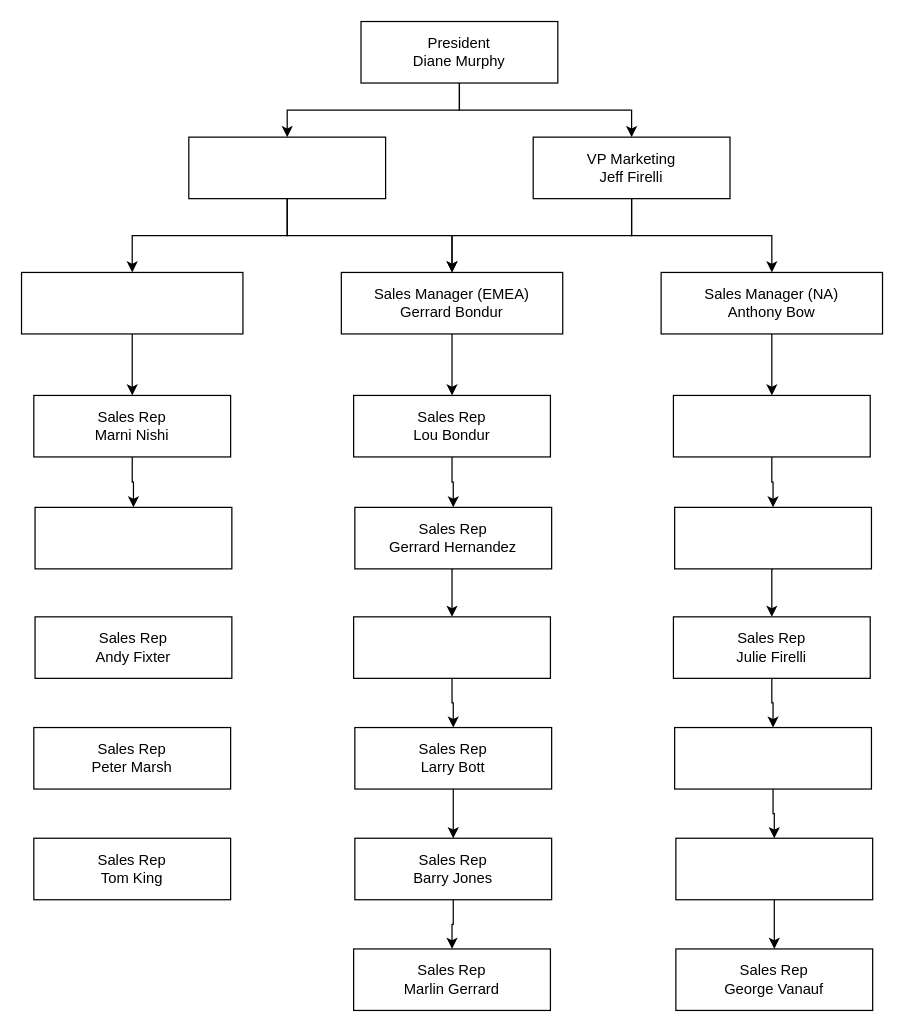
The diagram is 904 pixels wide and 1032 high, and some of its shapes have lost their labels. The shapes that lost their labels are listed below. From the top down, each one's box as (x1, y1, x2, y2) in pixels, then its label:
(188, 136, 386, 199): VP Sales Marty Patterson
(20, 271, 243, 334): Sales Manager (APAC) William Patterson
(672, 394, 870, 457): Sales Rep Leslie Jennings
(34, 506, 232, 569): Sales Rep Yoshimi Kato
(673, 506, 871, 569): Sales Rep Leslie Thompson
(352, 616, 550, 678): Sales Rep Pamella Castillo
(673, 726, 871, 789): Sales Rep Steve Patterson
(675, 837, 873, 900): Sales Rep Foon Yue Tseng
